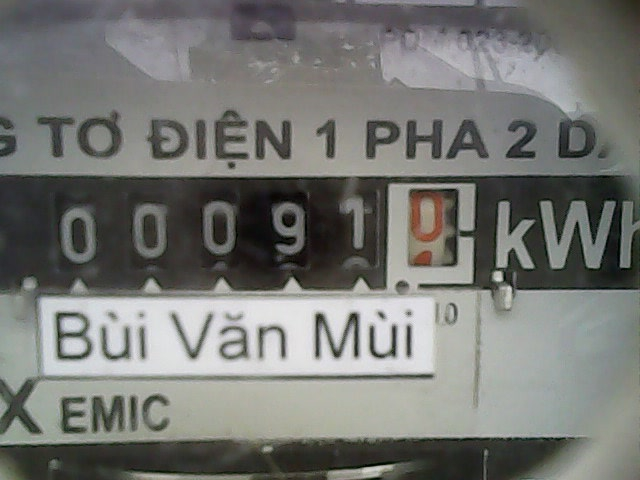phy_plate: (41, 175, 490, 293)
